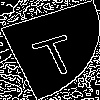T: (25, 25, 84, 79)
